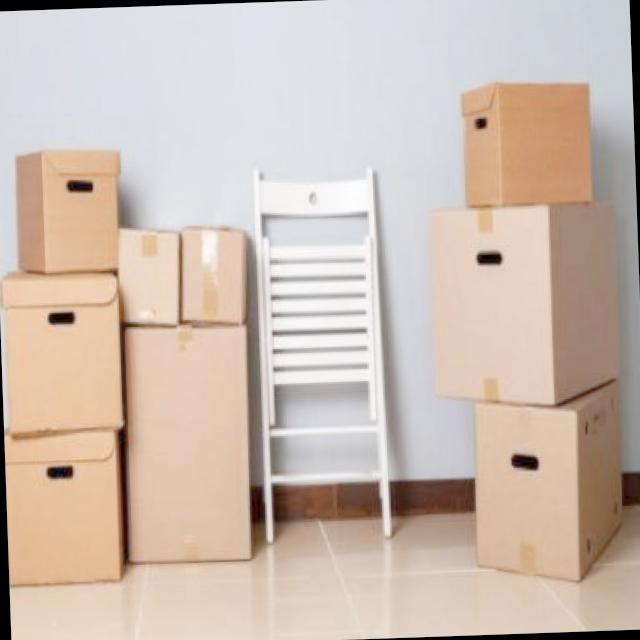box: (418, 202, 624, 404), (125, 330, 267, 602), (453, 403, 639, 598), (0, 261, 137, 427), (3, 419, 126, 595), (452, 66, 602, 210), (0, 113, 119, 289), (180, 216, 250, 324), (117, 219, 179, 326)
